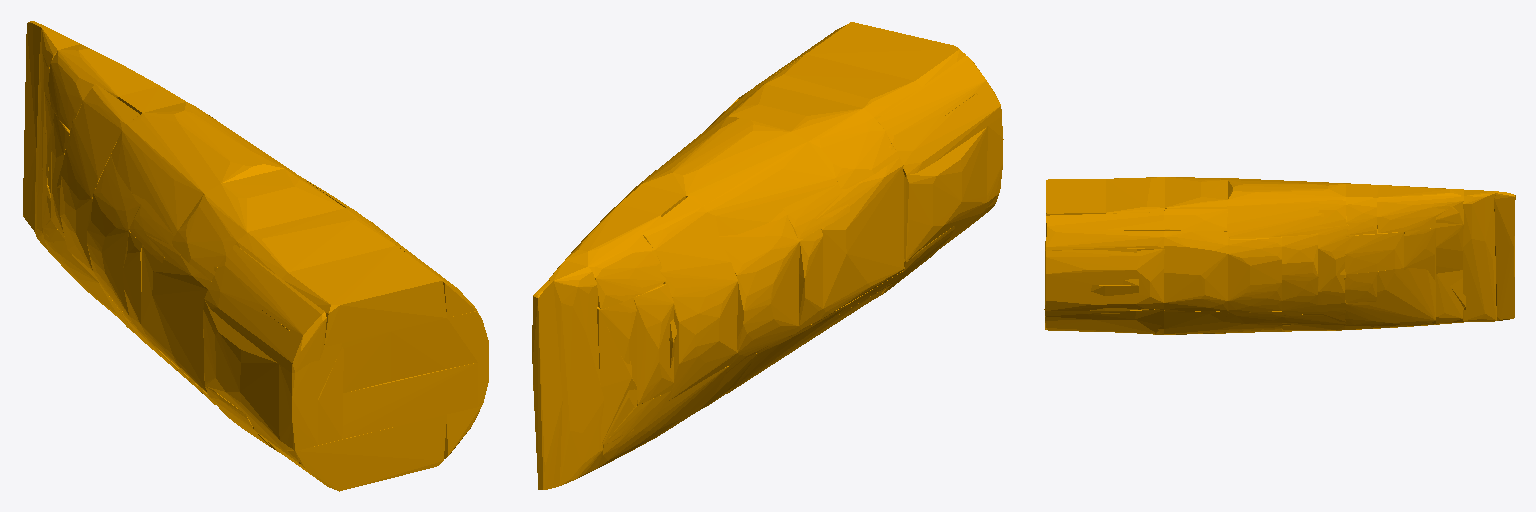
robot.urdf — tube-cleanser:
<?xml version="1.0" ?>
<robot name="tube-cleanser">
  <link name="baseLink">
    <contact>
      <lateral_friction value="1.0"/>
      <inertia_scaling value="3.0"/>
    </contact>
    <inertial>
      <origin rpy="0 0 0" xyz="0.000 0.000 0.000"/>
       <mass value=".1"/>
       <inertia ixx="1" ixy="0.0" ixz="0.0" iyy="1" iyz="0.0" izz="1"/>
    </inertial>
    <visual>
      <origin rpy="0 0 0" xyz="0 0 0"/>
      <geometry>
        <mesh filename="tube/tube-cleanser_white.obj" scale="1.0 1.0 1.0"/>
      </geometry>
    </visual>
    <collision>
      <origin rpy="0 0 0" xyz="0 0 0"/>
      <geometry>
        <mesh filename="../collision/tube/tube-cleanser_white.obj" scale="1.0 1.0 1.0"/>
      </geometry>
    </collision>
  </link>
</robot>
        

--- What the picture shows (computed from the rendered views, not written in the file) ---
The picture shows the robot from 3 angles, left to right: view 1: azimuth 30°, elevation 25°; view 2: azimuth 150°, elevation 25°; view 3: azimuth 270°, elevation 25°; orthographic projection.
Robot: tube-cleanser — 1 links, 0 joints (none); root link baseLink; default pose: every joint at zero.
Links seen in each view (by area): view 1: baseLink; view 2: baseLink; view 3: baseLink.
Boxes of the visible links, x1,y1,x2,y2 form: baseLink: [23, 21, 488, 491]; baseLink: [532, 22, 1003, 489]; baseLink: [1044, 177, 1515, 334].
Bounding box of the posed robot: 0.0478 × 0.1476 × 0.0499 m (x, y, z).
Meshes: 1 distinct files referenced, 1 mesh visuals loaded (1 OBJ).